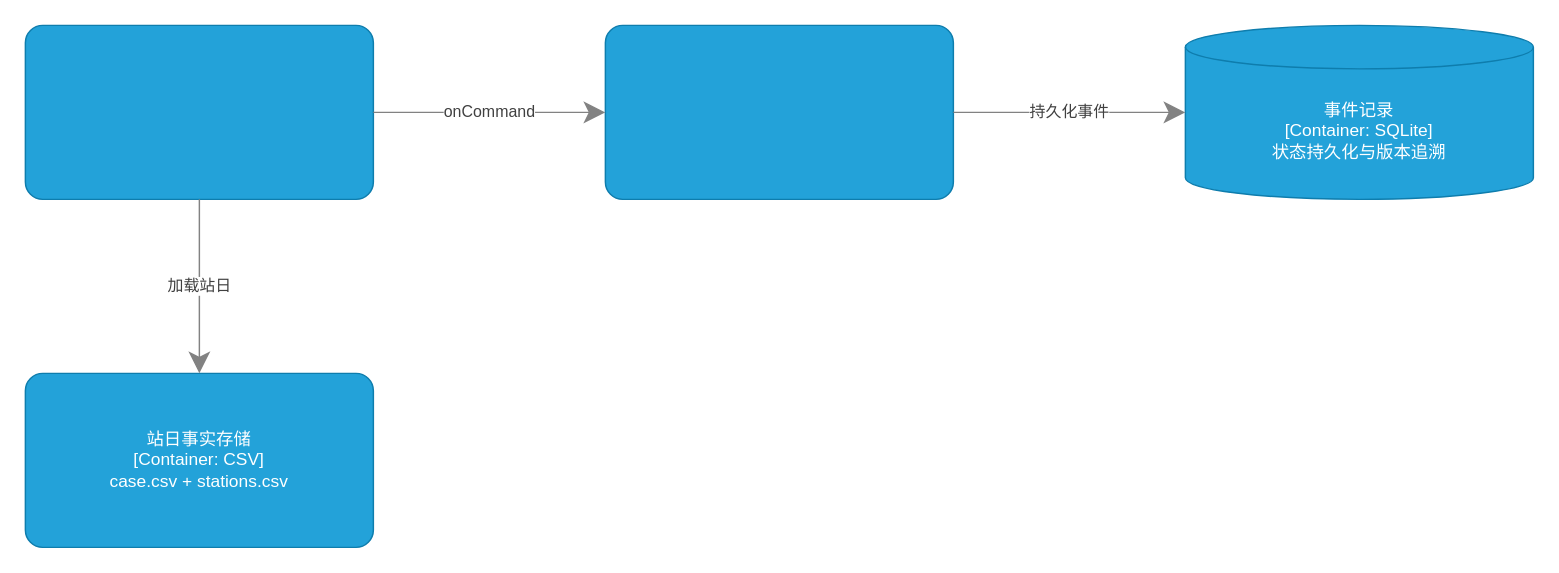
Some shapes in this 1559 by 573 pixel diagram are drawn without their labels. The centre of each missing label's shape, as x and y in pixels:
Next.js 工作台 [Container: React/TS] 事实/线索/缺失/任务四栏 SPA: point 198,111
类型化命令服务 [Container: Node.js] 申请·提交·确认·登记: point 778,111
